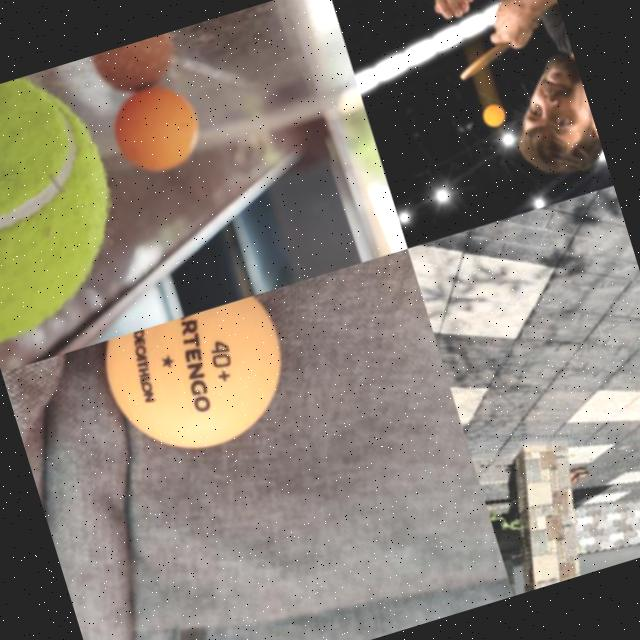ping-pong-ball: (98, 293, 304, 472), (103, 77, 210, 182), (482, 102, 508, 129)
